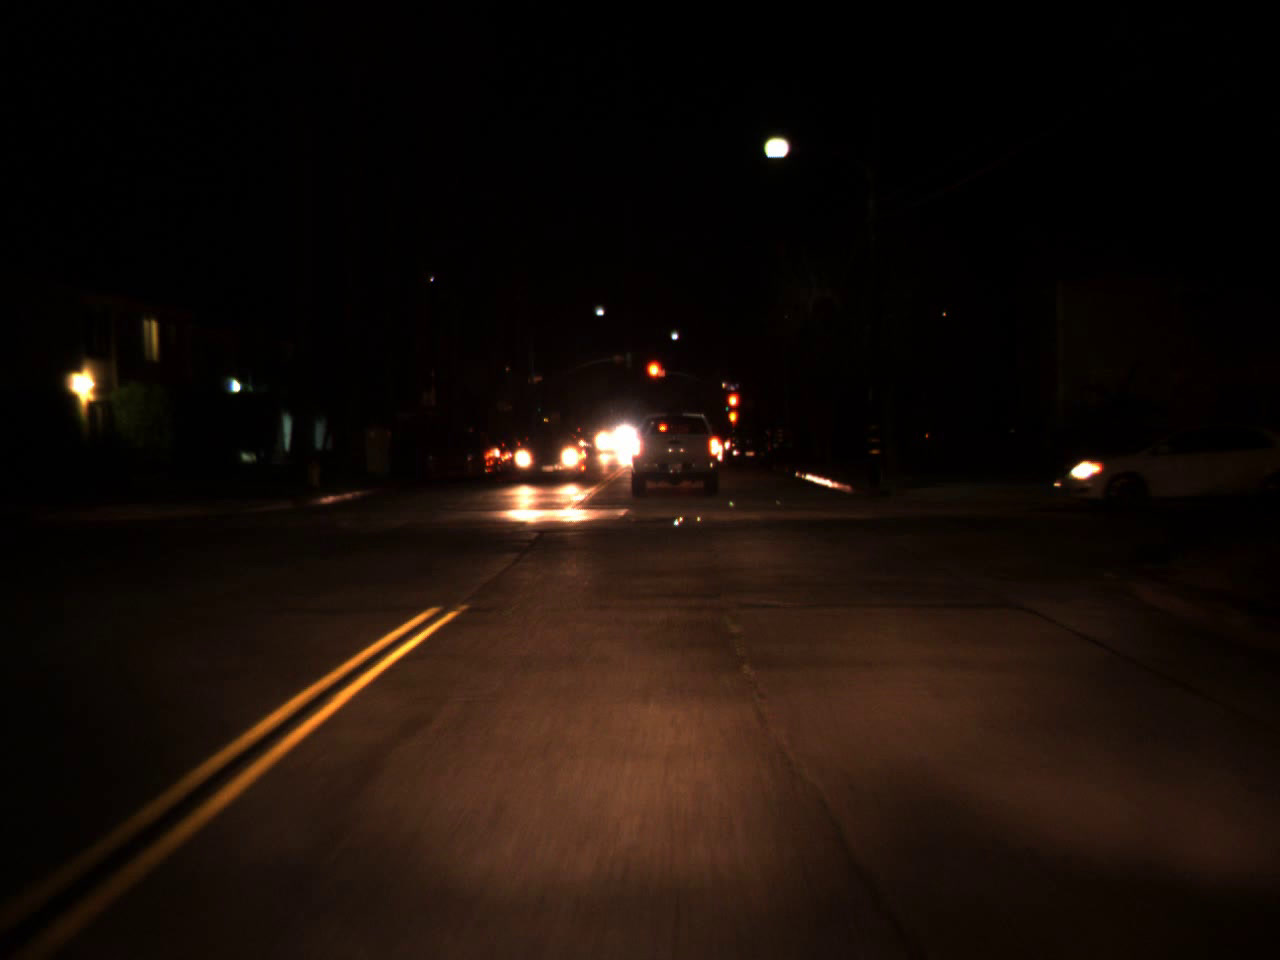stop: (646, 361, 662, 393), (726, 391, 739, 423)
